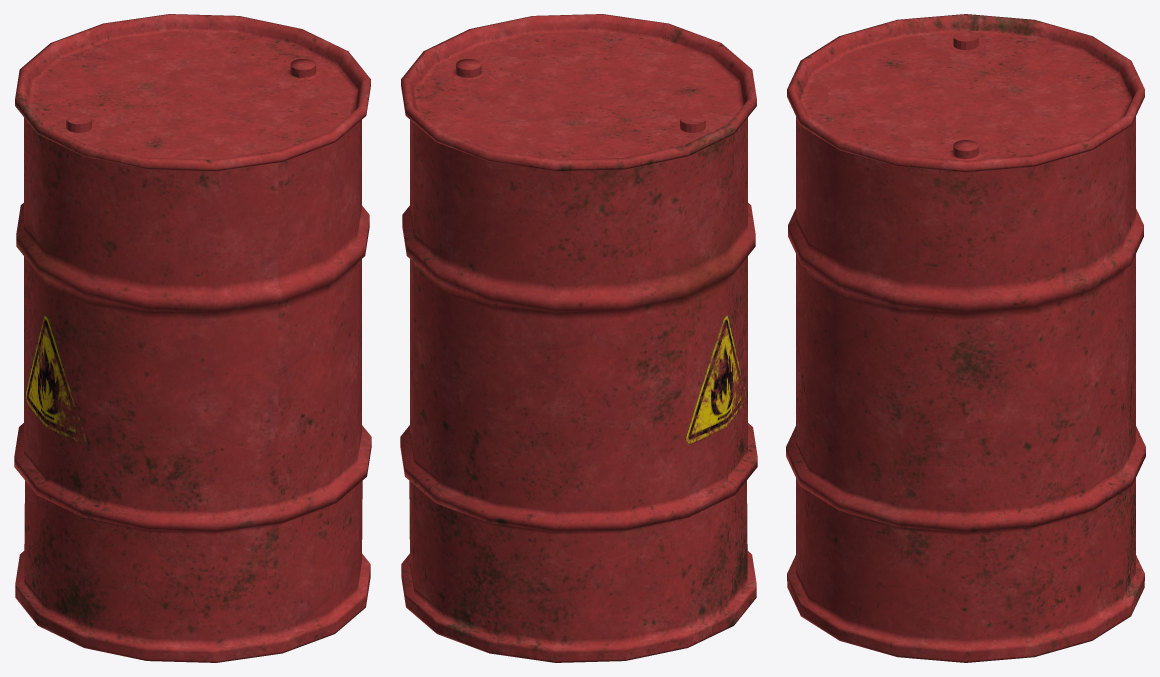
The model's file is Drum.glb.
The picture shows the model from 3 angles, left to right: view 1: azimuth 30°, elevation 25°; view 2: azimuth 150°, elevation 25°; view 3: azimuth 270°, elevation 25°; orthographic projection.
Parts seen in each view (by area): view 1: Oil Drum; view 2: Oil Drum; view 3: Oil Drum.
Boxes of the visible parts, box(x1,y1,x2,y2) form: Oil Drum: box(14, 14, 371, 662); Oil Drum: box(400, 14, 757, 662); Oil Drum: box(786, 14, 1145, 662).
Size of the model in its own units: 1.04 by 1.6 by 1.04.
Materials: 1 (1 with a texture image).
